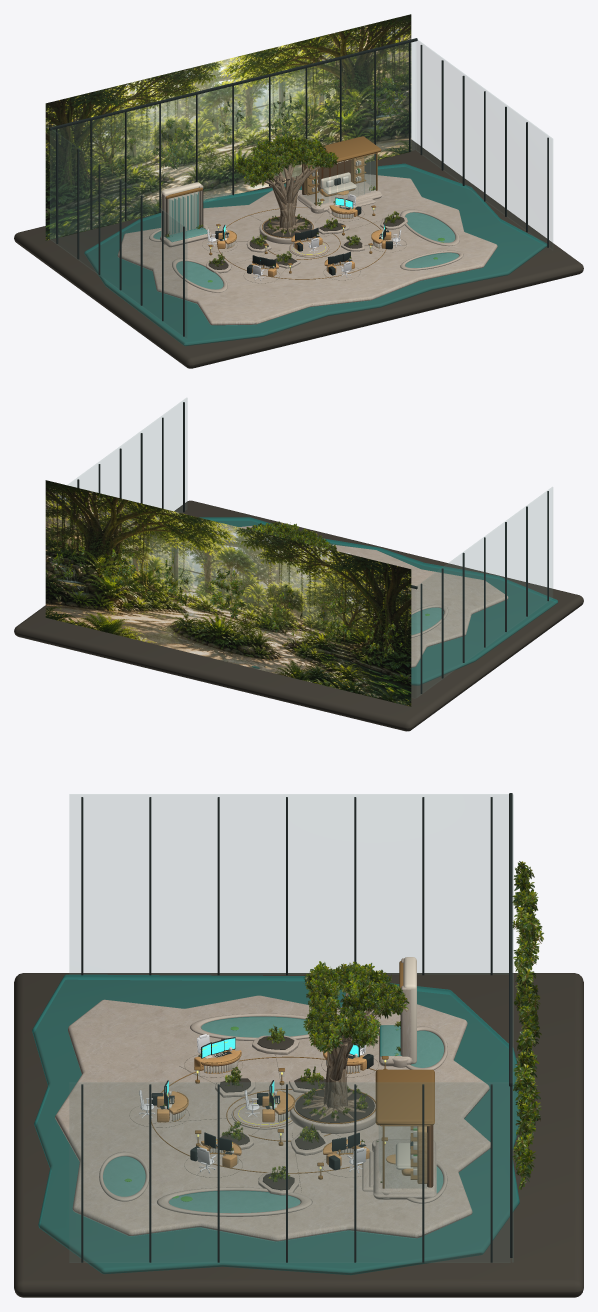
File: garden-office-v6.glb
3 renders of one model, top to bottom at view 1: azimuth 30°, elevation 25°; view 2: azimuth 150°, elevation 25°; view 3: azimuth 270°, elevation 25°, orthographic. The views are drawn at different scales.
Visible parts, largest first — view 1: RuntimeBatch_Low_iron_architectural_glass, V5 Exterior Garden Plate, RuntimeBatch_Limestone_joint, RuntimeBatch_Limestone_warm, RuntimeBatch_Shallow_turquoise_water, RuntimeBatch_Graphite, RuntimeBatch_Ficus_cluster_atlas, RuntimeBatch_Ivory_fluted_stone, RuntimeBatch_Champagne_bronze, RuntimeBatch_Old_ficus_bark, RuntimeBatch_Quarter_sawn_oak, RuntimeBatch_None (+1 smaller); view 2: V5 Exterior Garden Plate, RuntimeBatch_Limestone_joint, RuntimeBatch_Low_iron_architectural_glass, RuntimeBatch_Shallow_turquoise_water, RuntimeBatch_Limestone_warm, RuntimeBatch_Ficus_cluster_atlas, RuntimeBatch_Graphite; view 3: RuntimeBatch_Low_iron_architectural_glass, RuntimeBatch_Limestone_joint, RuntimeBatch_Limestone_warm, RuntimeBatch_Shallow_turquoise_water, RuntimeBatch_Ficus_cluster_atlas, RuntimeBatch_Graphite, RuntimeBatch_Champagne_bronze, RuntimeBatch_Quarter_sawn_oak, RuntimeBatch_Ivory_fluted_stone, RuntimeBatch_Old_ficus_bark, RuntimeBatch_None.
Boxes of the visible parts, x1=… form: RuntimeBatch_Low_iron_architectural_glass: x1=50, y1=40, x2=552, y2=338; V5 Exterior Garden Plate: x1=45, y1=14, x2=411, y2=240; RuntimeBatch_Limestone_joint: x1=14, y1=139, x2=583, y2=368; RuntimeBatch_Limestone_warm: x1=117, y1=174, x2=497, y2=325; RuntimeBatch_Shallow_turquoise_water: x1=84, y1=163, x2=547, y2=346; RuntimeBatch_Graphite: x1=49, y1=38, x2=548, y2=336; RuntimeBatch_Ficus_cluster_atlas: x1=78, y1=70, x2=406, y2=266; RuntimeBatch_Ivory_fluted_stone: x1=161, y1=160, x2=383, y2=272; RuntimeBatch_Champagne_bronze: x1=165, y1=136, x2=387, y2=279; RuntimeBatch_Old_ficus_bark: x1=254, y1=154, x2=319, y2=235; RuntimeBatch_Quarter_sawn_oak: x1=217, y1=152, x2=391, y2=276; RuntimeBatch_None: x1=207, y1=194, x2=401, y2=280; V5 Exterior Garden Plate: x1=45, y1=480, x2=411, y2=706; RuntimeBatch_Limestone_joint: x1=14, y1=500, x2=583, y2=731; RuntimeBatch_Low_iron_architectural_glass: x1=68, y1=398, x2=552, y2=698; RuntimeBatch_Shallow_turquoise_water: x1=199, y1=517, x2=557, y2=685; RuntimeBatch_Limestone_warm: x1=239, y1=526, x2=508, y2=667; RuntimeBatch_Ficus_cluster_atlas: x1=51, y1=521, x2=402, y2=663; RuntimeBatch_Graphite: x1=77, y1=402, x2=548, y2=693; RuntimeBatch_Low_iron_architectural_glass: x1=69, y1=794, x2=513, y2=1262; RuntimeBatch_Limestone_joint: x1=14, y1=973, x2=583, y2=1297; RuntimeBatch_Limestone_warm: x1=55, y1=958, x2=490, y2=1241; RuntimeBatch_Shallow_turquoise_water: x1=32, y1=974, x2=521, y2=1275; RuntimeBatch_Ficus_cluster_atlas: x1=163, y1=861, x2=543, y2=1189; RuntimeBatch_Graphite: x1=81, y1=793, x2=512, y2=1262; RuntimeBatch_Champagne_bronze: x1=151, y1=961, x2=434, y2=1188; RuntimeBatch_Quarter_sawn_oak: x1=157, y1=1049, x2=430, y2=1183; RuntimeBatch_Ivory_fluted_stone: x1=169, y1=957, x2=417, y2=1175; RuntimeBatch_Old_ficus_bark: x1=302, y1=990, x2=396, y2=1121; RuntimeBatch_None: x1=139, y1=1034, x2=366, y2=1173.
Size of the model in its own units: 37 by 13.18 by 28.4.
Materials: 20 (5 with a texture image).
